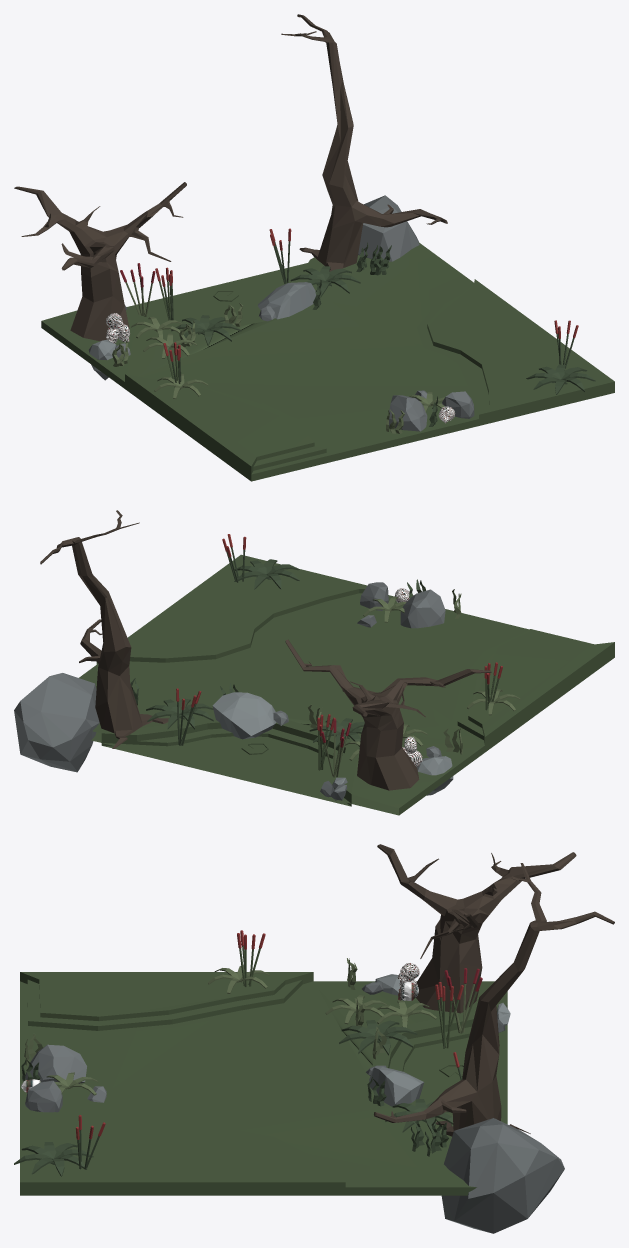
The model's file is battlescene.FBX.
3 views of the same model, one above another, from view 1: azimuth 30°, elevation 25°; view 2: azimuth 150°, elevation 25°; view 3: azimuth 270°, elevation 25° (orthographic). The views are drawn at different scales.
Visible parts, largest first — view 1: battlescene; view 2: battlescene; view 3: battlescene.
Boxes of the visible parts, bbox=[...] form: battlescene: bbox=[14, 14, 614, 481]; battlescene: bbox=[14, 510, 614, 815]; battlescene: bbox=[14, 844, 614, 1233].
Bounding box in the file's own units: 233 × 151 × 259.
